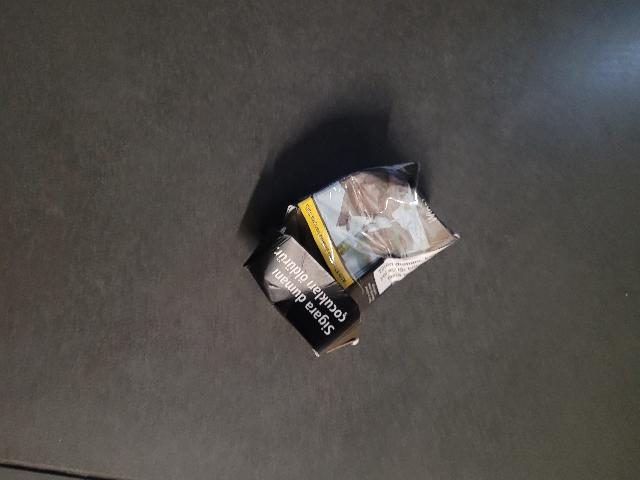Kagit: (247, 159, 462, 360)
